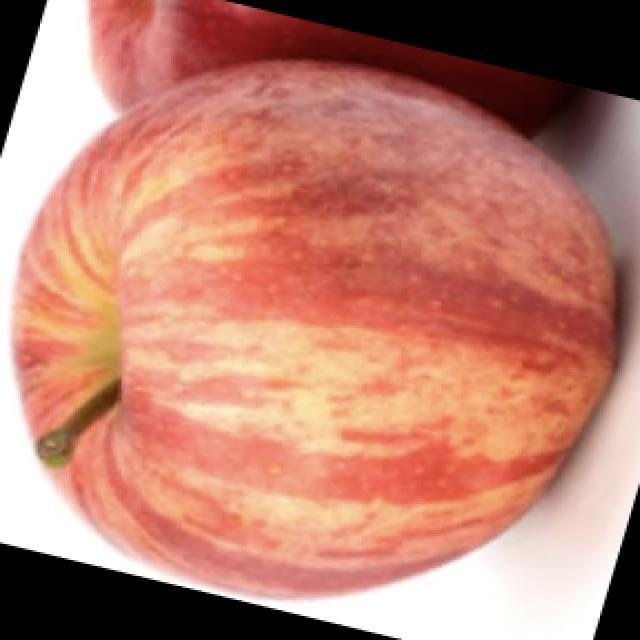Fresh Apple: (41, 84, 596, 634)
